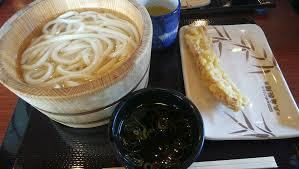kamaage: (1, 1, 167, 140)
